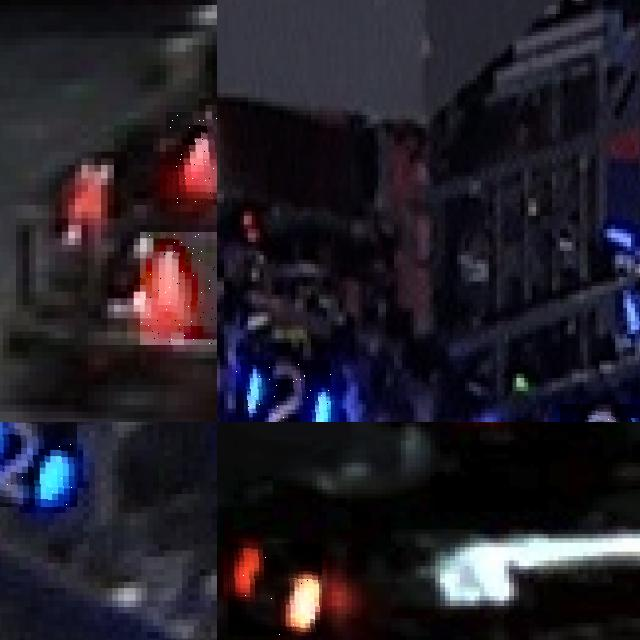B2: (0, 422, 77, 506), (236, 360, 331, 422)
R1: (140, 231, 217, 345), (166, 111, 217, 205)
Rs: (228, 543, 322, 636)
